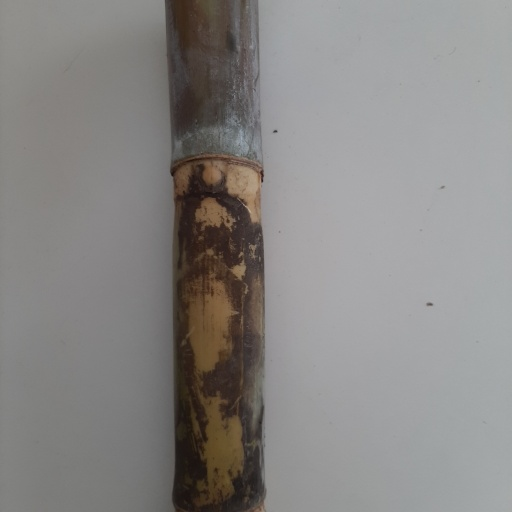Bud: (195, 161, 225, 190)
